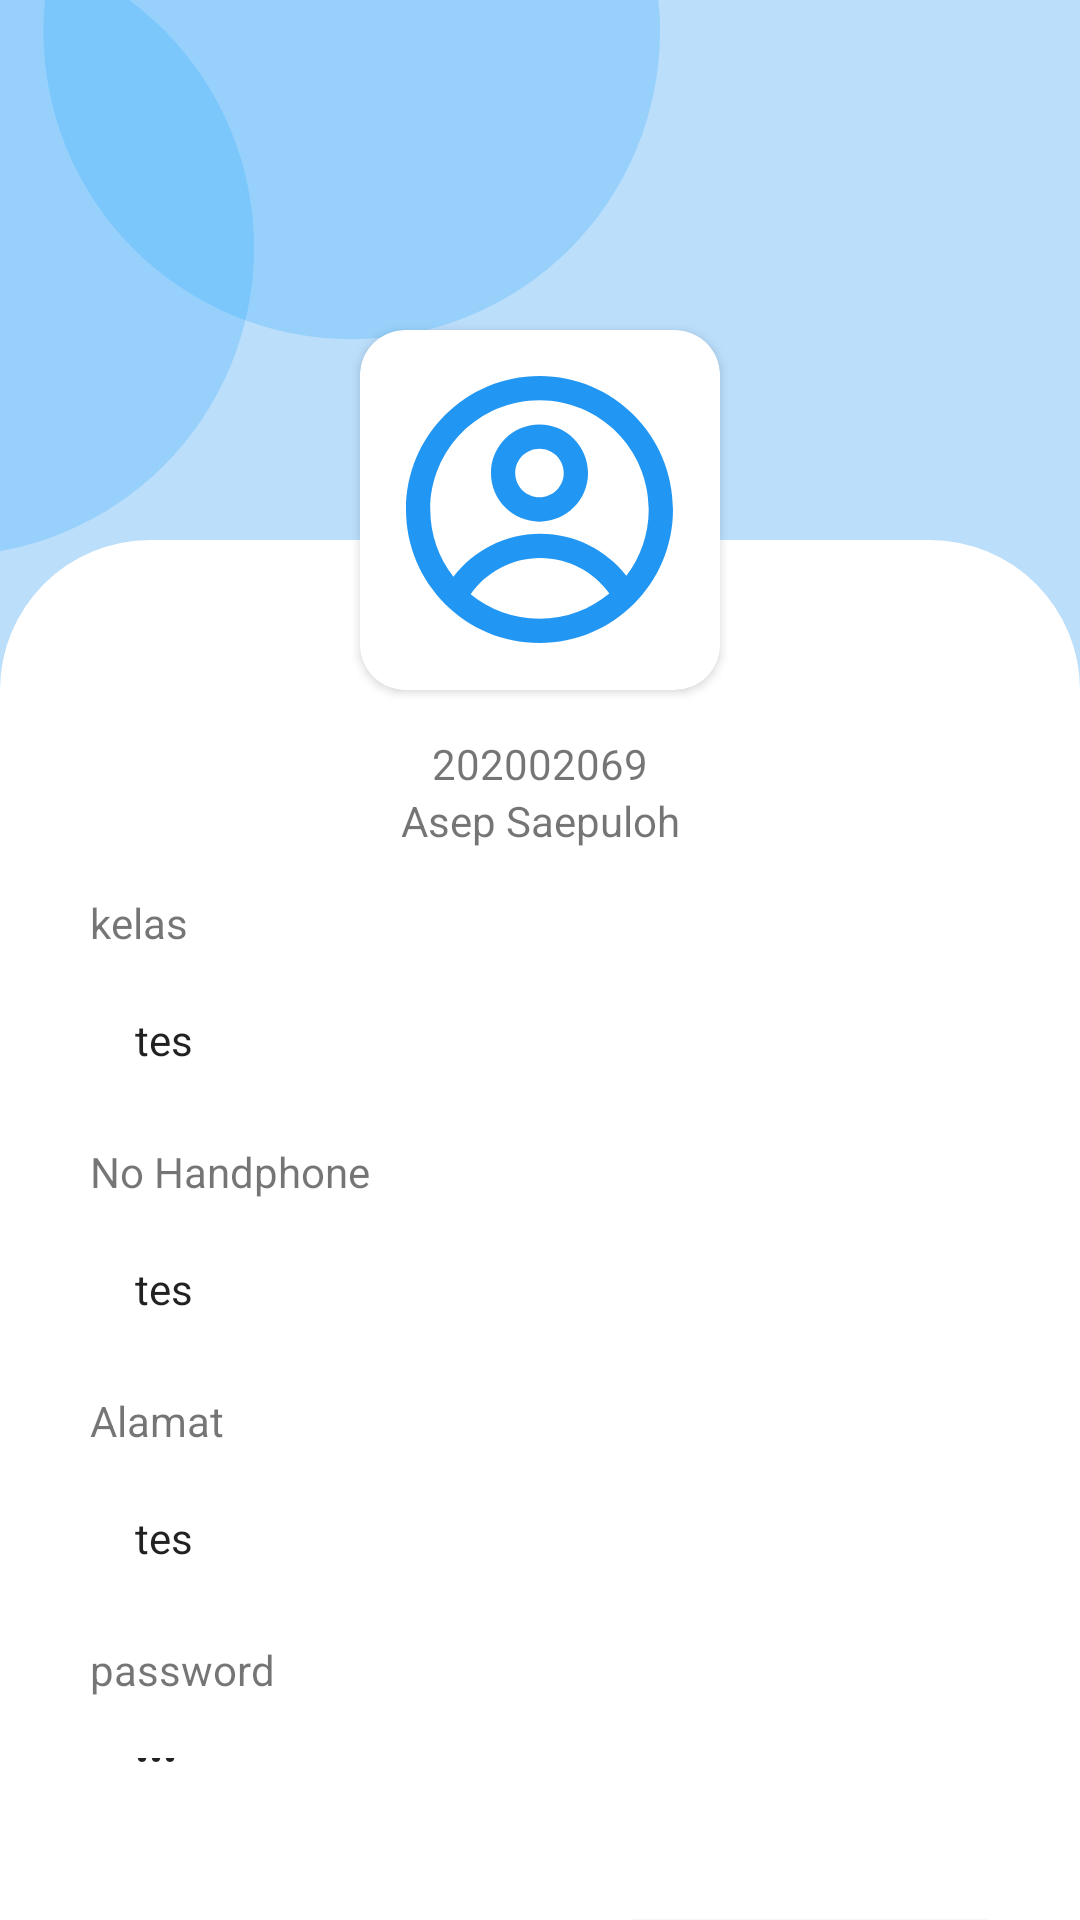

Icons on this 1080 × 1920 Android screen, each with the point to tap as (x=x, y=y):
profile: (x=539, y=509)
